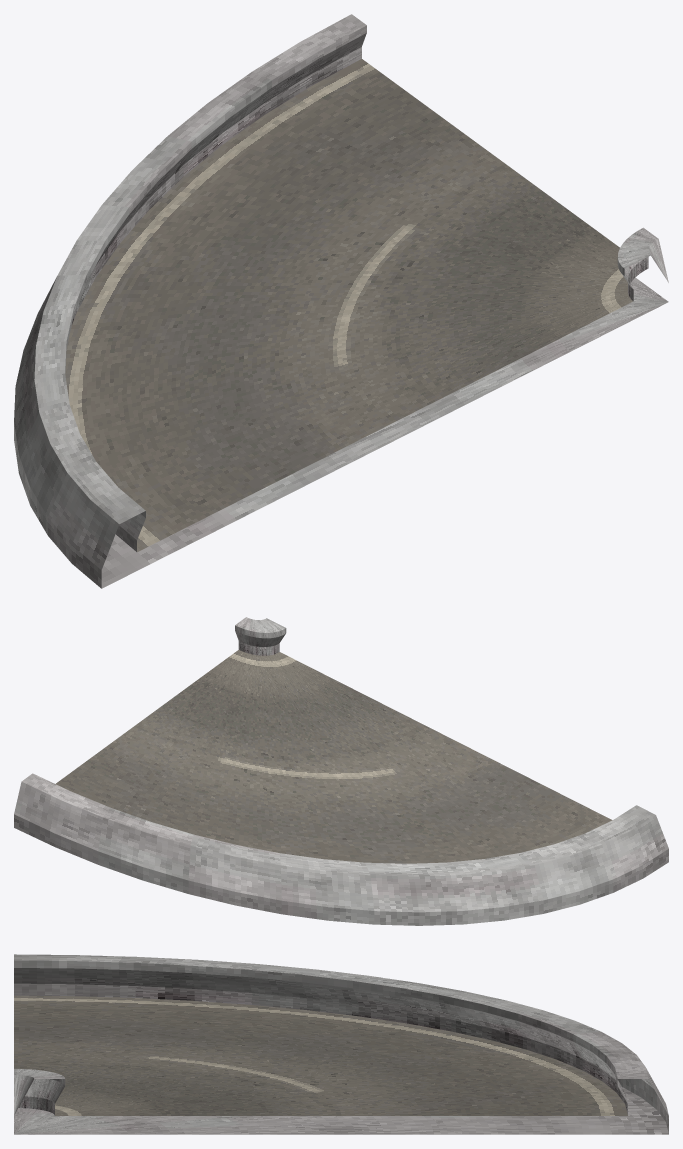
File: road-Turn-HalfBankedLeft-BiSlopeUp-Up1-Right-Size1.glb
3 views of the same model, one above another, from view 1: azimuth 30°, elevation 25°; view 2: azimuth 150°, elevation 25°; view 3: azimuth 270°, elevation 25° (orthographic). The views are drawn at different scales.
Parts seen in each view (by area): view 1: road-Turn-HalfBankedLeft-BiSlopeUp-Up1-Right-Size1; view 2: road-Turn-HalfBankedLeft-BiSlopeUp-Up1-Right-Size1; view 3: road-Turn-HalfBankedLeft-BiSlopeUp-Up1-Right-Size1.
Boxes of the visible parts, <box> form: road-Turn-HalfBankedLeft-BiSlopeUp-Up1-Right-Size1: <box>14,14,668,588</box>; road-Turn-HalfBankedLeft-BiSlopeUp-Up1-Right-Size1: <box>14,617,668,925</box>; road-Turn-HalfBankedLeft-BiSlopeUp-Up1-Right-Size1: <box>14,954,668,1134</box>.
Size of the model in its own units: 1 by 0.3437 by 1.
Materials: 2 (2 with a texture image).
